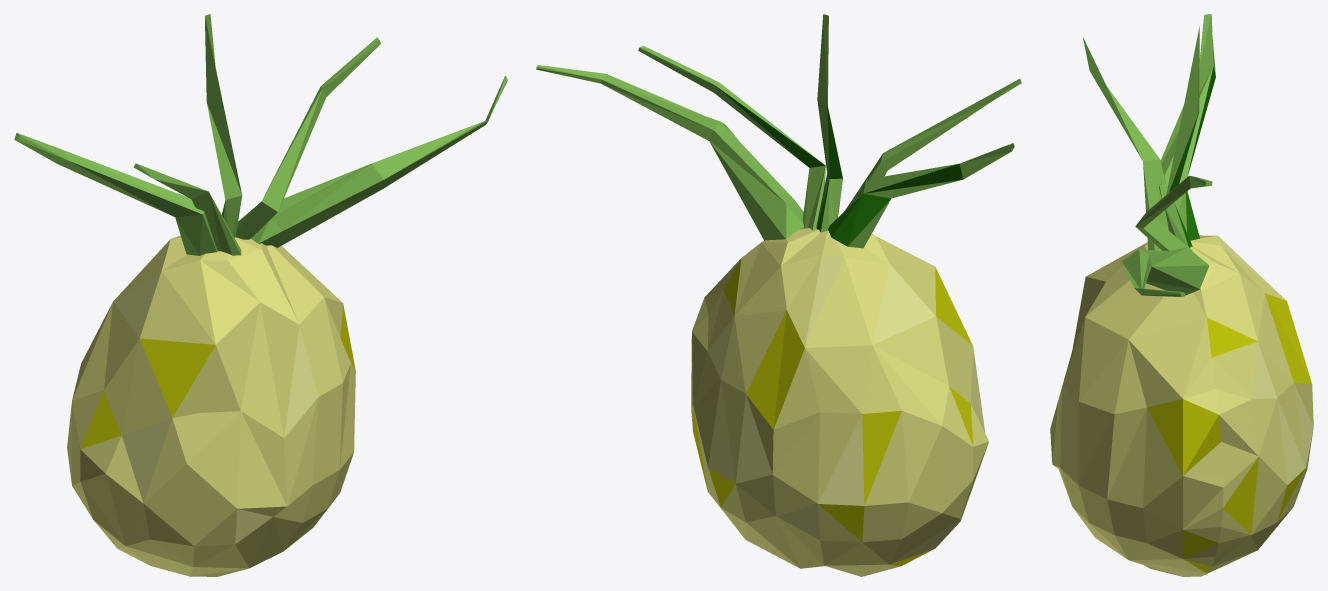
File: Low_Poly_Pineapple.fbx
3 views of the same model, side by side, from view 1: azimuth 30°, elevation 25°; view 2: azimuth 150°, elevation 25°; view 3: azimuth 270°, elevation 25° (orthographic). The views are drawn at different scales.
Visible parts, largest first — view 1: pSphere2; view 2: pSphere2; view 3: pSphere2.
Part boxes in pixels (left/top/right/bottom): pSphere2: left=14, top=14, right=507, bottom=576; pSphere2: left=536, top=14, right=1021, bottom=576; pSphere2: left=1050, top=14, right=1313, bottom=576.
Size of the model in its own units: 5.68 by 6.17 by 2.73.
